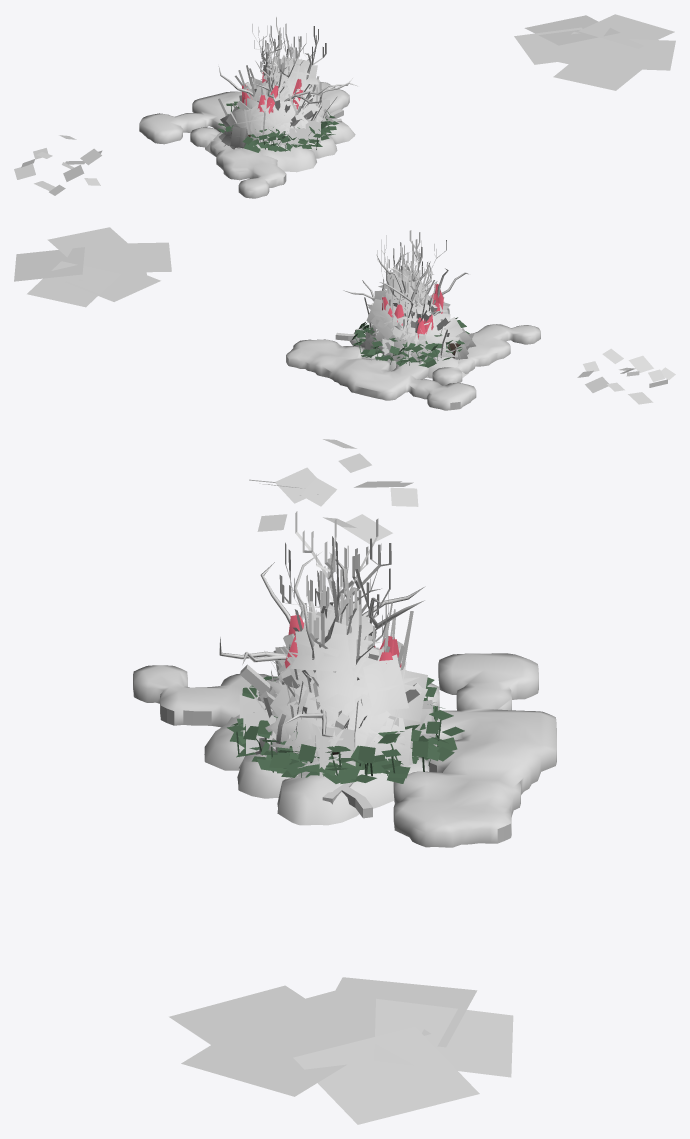
The model's file is Forest Details.fbx.
3 views of the same model, one above another, from view 1: azimuth 30°, elevation 25°; view 2: azimuth 150°, elevation 25°; view 3: azimuth 270°, elevation 25° (orthographic). The views are drawn at different scales.
Parts seen in each view (by area): view 1: Fallen Leaves, Peat Moss 7, Winter Berry Bush 3, Peat Moss 5, Snow Flowers, Wild Sapling 1, Dead Tree 1, Burs, Clover 1, Winter Berry Bush 2, Taiga Ground Cover, Winter Berry Bush 1 (+8 smaller); view 2: Peat Moss 7, Fallen Leaves, Winter Berry Bush 3, Snow Flowers, Taiga Ground Cover, Wild Sapling 1, Dead Tree 1, Winter Berry Bush 2, Clover 3, Clover 1, Clover 4, Peat Moss 5 (+4 smaller); view 3: Fallen Leaves, Peat Moss 7, Winter Berry Bush 3, Peat Moss 5, Snow Flowers, Clover 1, Wild Sapling 1, Clover 3, Winter Berry Bush 1, Burs, Dead Tree 1, Winter Berry Bush 2 (+5 smaller).
Part boxes in pixels (bbox=[...]): Fallen Leaves: bbox=[514, 14, 675, 90]; Peat Moss 7: bbox=[139, 81, 349, 198]; Winter Berry Bush 3: bbox=[220, 55, 319, 142]; Peat Moss 5: bbox=[205, 120, 355, 172]; Snow Flowers: bbox=[14, 135, 102, 195]; Wild Sapling 1: bbox=[258, 23, 326, 77]; Dead Tree 1: bbox=[218, 35, 358, 103]; Burs: bbox=[261, 100, 329, 146]; Clover 1: bbox=[224, 101, 338, 151]; Winter Berry Bush 2: bbox=[250, 79, 326, 146]; Taiga Ground Cover: bbox=[219, 109, 333, 149]; Winter Berry Bush 1: bbox=[246, 90, 326, 145]; Peat Moss 7: bbox=[286, 324, 540, 410]; Fallen Leaves: bbox=[14, 227, 171, 307]; Winter Berry Bush 3: bbox=[366, 265, 463, 357]; Snow Flowers: bbox=[577, 348, 675, 404]; Taiga Ground Cover: bbox=[360, 315, 475, 363]; Wild Sapling 1: bbox=[377, 230, 446, 300]; Dead Tree 1: bbox=[343, 252, 468, 315]; Winter Berry Bush 2: bbox=[372, 301, 446, 356]; Clover 3: bbox=[355, 320, 466, 366]; Clover 1: bbox=[352, 317, 469, 366]; Clover 4: bbox=[351, 321, 451, 367]; Peat Moss 5: bbox=[349, 325, 468, 378]; Fallen Leaves: bbox=[169, 977, 513, 1124]; Peat Moss 7: bbox=[133, 653, 556, 847]; Winter Berry Bush 3: bbox=[265, 600, 427, 752]; Peat Moss 5: bbox=[204, 714, 394, 825]; Snow Flowers: bbox=[249, 439, 418, 543]; Clover 1: bbox=[227, 686, 464, 783]; Wild Sapling 1: bbox=[285, 511, 391, 649]; Clover 3: bbox=[230, 676, 453, 781]; Winter Berry Bush 1: bbox=[257, 675, 396, 753]; Burs: bbox=[239, 695, 431, 778]; Dead Tree 1: bbox=[219, 552, 425, 737]; Winter Berry Bush 2: bbox=[253, 644, 405, 764].
Bounding box in the file's own units: 1488 × 277 × 424.
